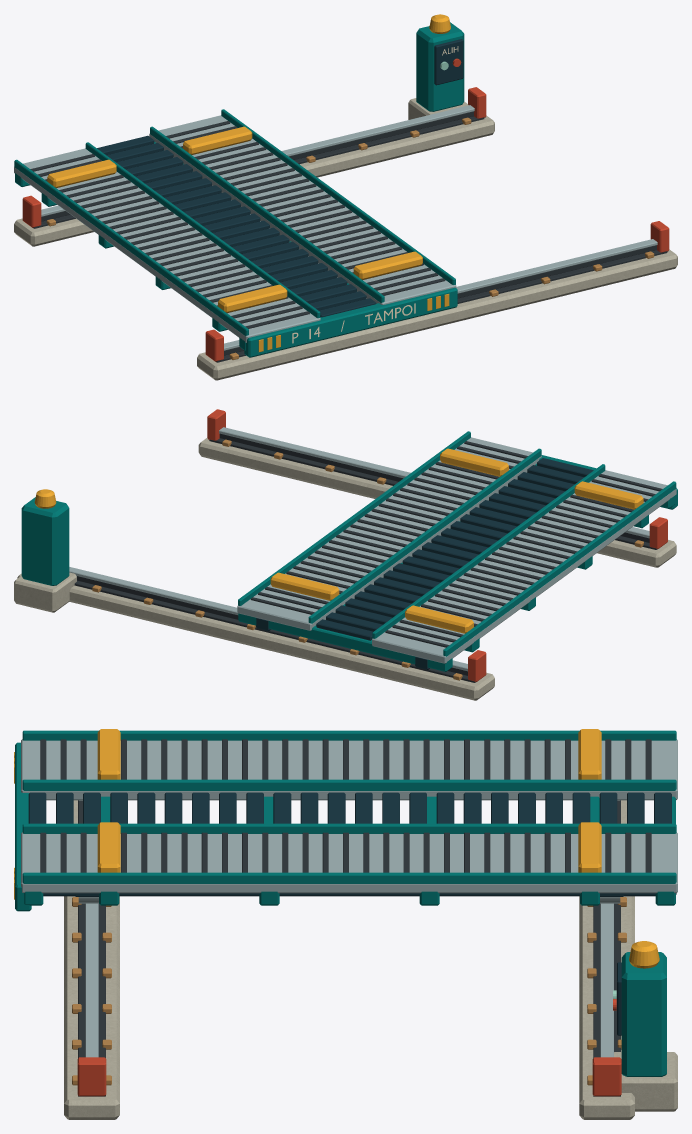
3 renders of one model, top to bottom at view 1: azimuth 30°, elevation 25°; view 2: azimuth 150°, elevation 25°; view 3: azimuth 270°, elevation 25°, orthographic. The views are drawn at different scales.
Parts seen in each view (by area): view 1: Folded tyre pans, Traction pressings, Cast track beams, Centre catwalk treads, Rolled tray lips, Shallow tyre chocks, Front valance, Rail running head, Berth interlock, Rail sole, Rail web, End stops (+3 smaller); view 2: Folded tyre pans, Traction pressings, Cast track beams, Centre catwalk treads, Rolled tray lips, Shallow tyre chocks, Berth interlock, Rail running head, Rail sole, Chassis ties, Rail web, Drive cabinet pad (+2 smaller); view 3: Folded tyre pans, Rolled tray lips, Traction pressings, Centre catwalk treads, Cast track beams, Berth interlock, Shallow tyre chocks, Rail sole, Rail running head, Chassis ties, End stops, Drive cabinet pad (+4 smaller).
Boxes of the visible parts, <box> form: Folded tyre pans: <box>14,115,456,342</box>; Traction pressings: <box>30,121,445,328</box>; Cast track beams: <box>14,115,677,380</box>; Centre catwalk treads: <box>97,135,376,317</box>; Rolled tray lips: <box>14,109,455,336</box>; Shallow tyre chocks: <box>47,126,422,312</box>; Front valance: <box>244,287,457,357</box>; Rail running head: <box>41,105,657,350</box>; Berth interlock: <box>416,22,464,111</box>; Rail sole: <box>33,116,667,362</box>; Rail web: <box>41,111,656,355</box>; End stops: <box>22,87,669,361</box>; Folded tyre pans: <box>237,437,676,663</box>; Traction pressings: <box>250,441,662,647</box>; Cast track beams: <box>17,438,676,700</box>; Centre catwalk treads: <box>316,458,593,640</box>; Rolled tray lips: <box>238,431,676,656</box>; Shallow tyre chocks: <box>270,448,643,633</box>; Berth interlock: <box>21,497,69,585</box>; Rail running head: <box>69,427,649,671</box>; Rail sole: <box>74,438,657,682</box>; Chassis ties: <box>238,463,675,671</box>; Rail web: <box>76,433,649,675</box>; Drive cabinet pad: <box>14,572,76,612</box>; Folded tyre pans: <box>21,739,677,893</box>; Rolled tray lips: <box>22,730,676,883</box>; Traction pressings: <box>40,739,651,872</box>; Centre catwalk treads: <box>28,792,671,823</box>; Cast track beams: <box>64,800,634,1119</box>; Berth interlock: <box>621,952,666,1076</box>; Shallow tyre chocks: <box>97,729,601,872</box>; Rail sole: <box>78,800,620,1096</box>; Rail running head: <box>85,903,613,1057</box>; Chassis ties: <box>24,796,675,905</box>; End stops: <box>77,1057,621,1096</box>; Drive cabinet pad: <box>614,1052,677,1111</box>.
Size of the model in its own units: 5.28 by 1.19 by 4.64.
10 materials, 1 textured.
